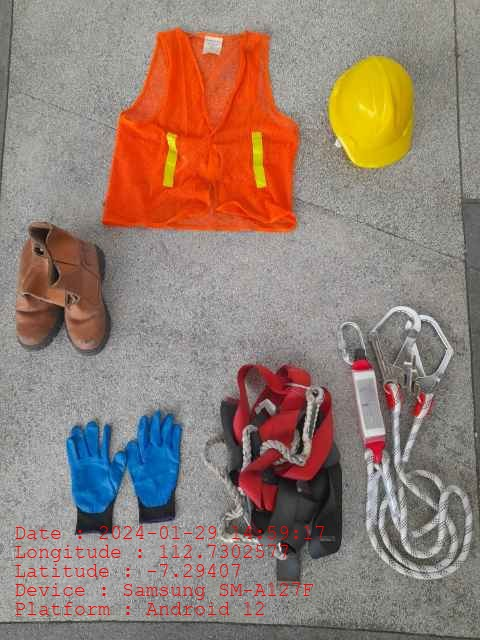HELM: (327, 54, 415, 169)
ROMPI: (107, 29, 293, 233)
SARUNG_TANGAN: (127, 408, 183, 523)
TAMBANG_SLING: (339, 306, 472, 583)
